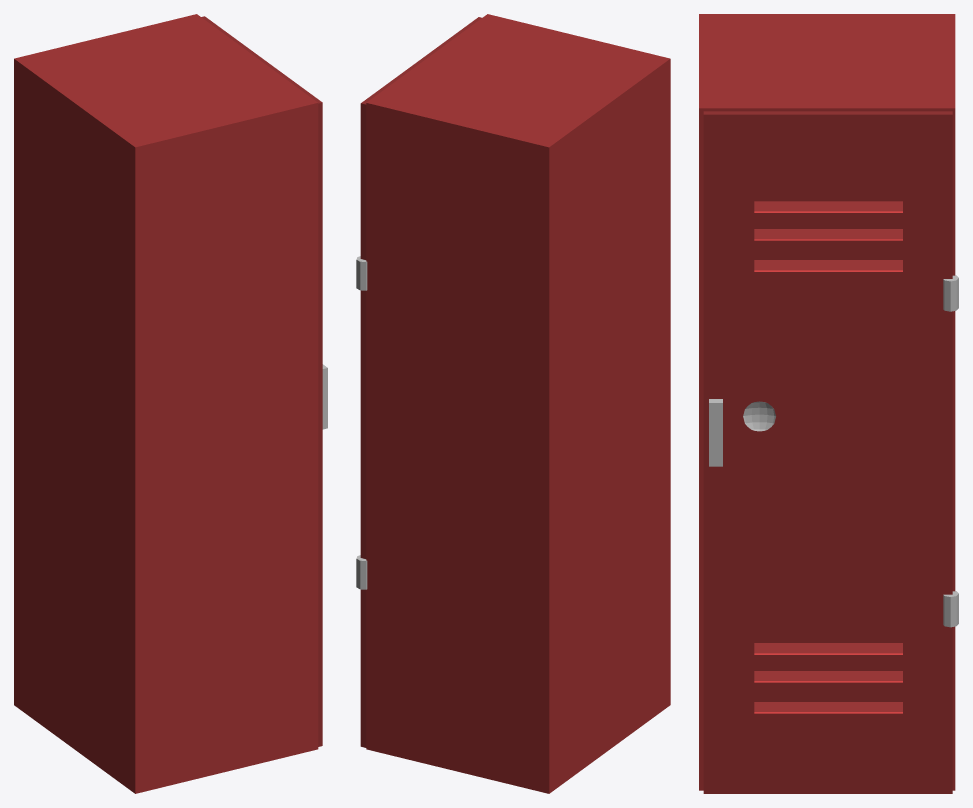
The model's file is Locker_Close.fbx.
3 renders of one model, left to right at view 1: azimuth 30°, elevation 25°; view 2: azimuth 150°, elevation 25°; view 3: azimuth 270°, elevation 25°, orthographic. The views are drawn at different scales.
Parts seen in each view (by area): view 1: Cube.005; view 2: Cube.005; view 3: Cube.005.
Part boxes in pixels (x1,y1,x2,y2): Cube.005: [14, 14, 327, 793]; Cube.005: [356, 14, 670, 793]; Cube.005: [699, 14, 958, 793].
Size of the model in its own units: 3.47 by 10.81 by 3.73.
